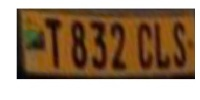T: (44, 15, 68, 72)
